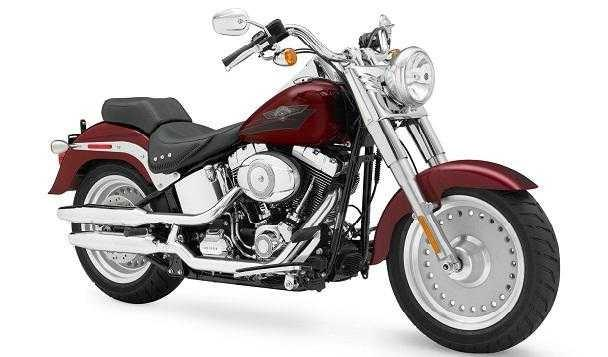motorbike: (47, 7, 561, 354)
